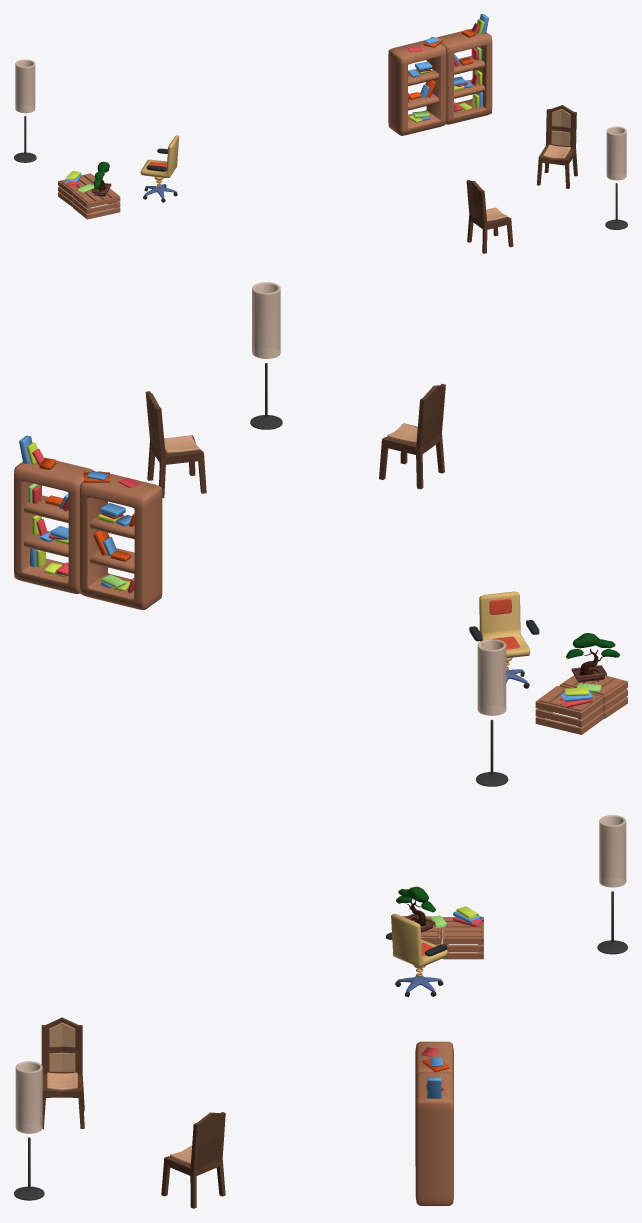
The model's file is d2x2Shape Sampleroom - Deko.glb.
3 views of the same model, one above another, from view 1: azimuth 30°, elevation 25°; view 2: azimuth 150°, elevation 25°; view 3: azimuth 270°, elevation 25° (orthographic). The views are drawn at different scales.
Visible parts, largest first — view 1: Deko_2x2_Shape; view 2: Deko_2x2_Shape; view 3: Deko_2x2_Shape.
Part boxes in pixels (bbox=[...]): Deko_2x2_Shape: bbox=[14, 14, 627, 253]; Deko_2x2_Shape: bbox=[14, 282, 627, 786]; Deko_2x2_Shape: bbox=[14, 815, 627, 1208].
Bounding box in the file's own units: 7.98 × 1.75 × 7.62.
22 materials, 1 textured.
